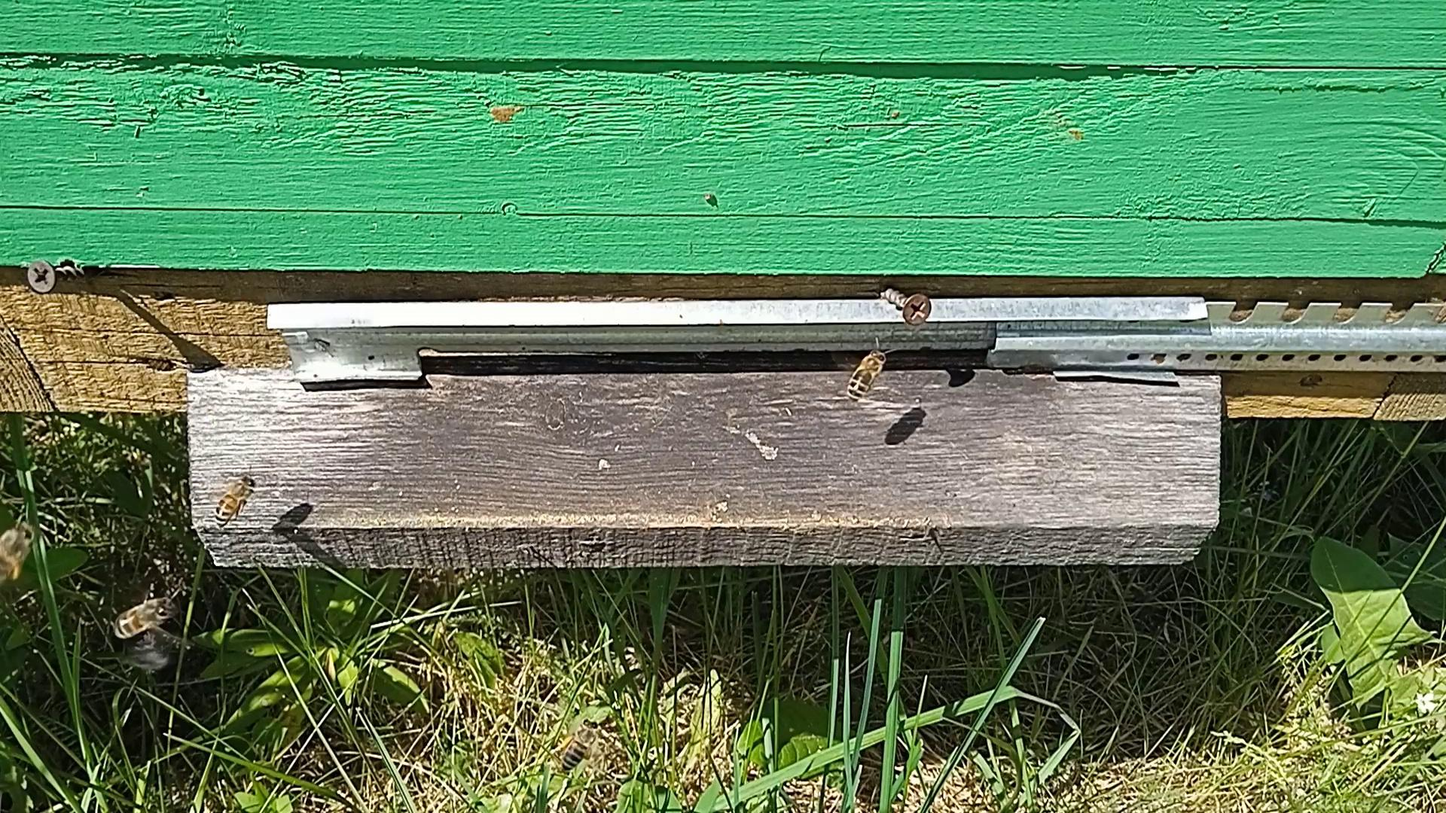worker-bee: (113, 597, 173, 638), (847, 349, 886, 400), (215, 475, 254, 524), (0, 523, 32, 580), (560, 725, 594, 771)
